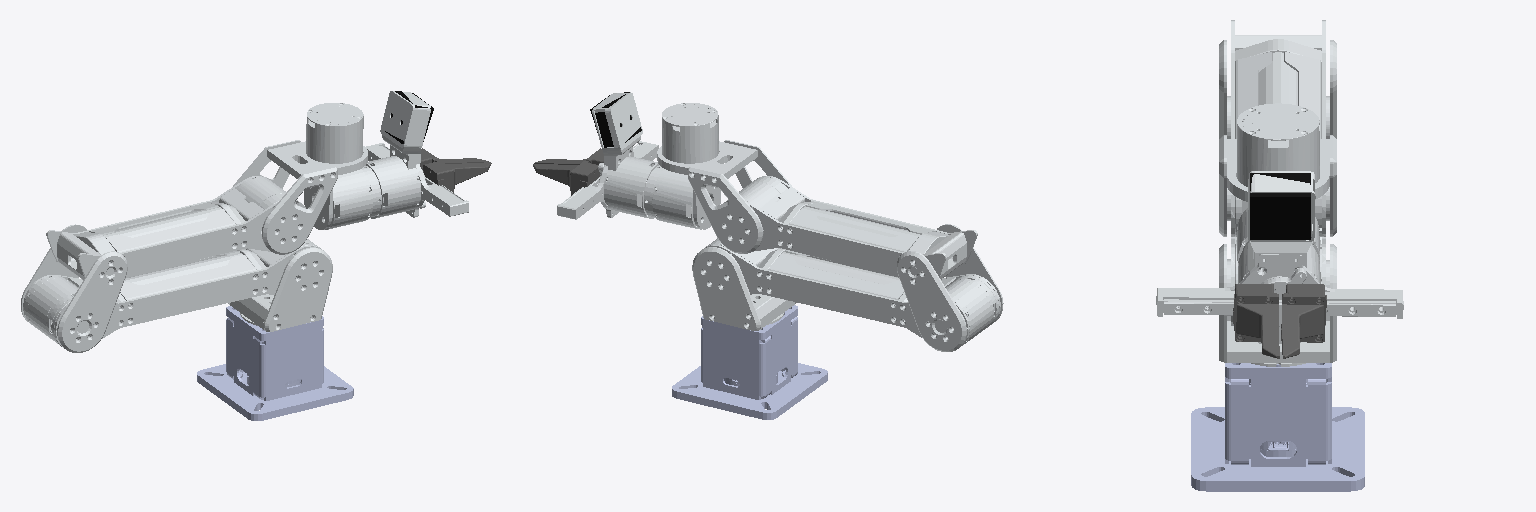
URDF robot description (zk_xm115_00_description):
<?xml version="1.0" encoding="utf-8"?>
<!-- This URDF was automatically created by SolidWorks to URDF Exporter! Originally created by Stephen Brawner (brawner@gmail.com) 
     Commit Version: 1.6.0-4-g7f85cfe  Build Version: 1.6.7995.38578
     For more information, please see http://wiki.ros.org/sw_urdf_exporter -->
<robot
  name="zk_xm115_00_description">
  <link
    name="base_link">
    <inertial>
      <origin
        xyz="0.00010343 -0.00017861 0.011481"
        rpy="0 0 0" />
      <mass
        value="0.66782" />
      <inertia
        ixx="0.00062899"
        ixy="-1.8463E-08"
        ixz="1.1399E-08"
        iyy="0.00052145"
        iyz="-2.183E-07"
        izz="0.00097478" />
    </inertial>
    <visual>
      <origin
        xyz="0 0 0"
        rpy="0 0 0" />
      <geometry>
        <mesh
          filename="meshes/base_link.STL" />
      </geometry>
      <material
        name="">
        <color
          rgba="0.79216 0.81961 0.93333 1" />
      </material>
    </visual>
    <collision>
      <origin
        xyz="0 0 0"
        rpy="0 0 0" />
      <geometry>
        <mesh
          filename="meshes/base_link.STL" />
      </geometry>
    </collision>
  </link>
  <link
    name="link1">
    <inertial>
      <origin
        xyz="0.0070239 -0.00071537 0.047458"
        rpy="0 0 0" />
      <mass
        value="0.44156" />
      <inertia
        ixx="0.00017928"
        ixy="-2.0481E-09"
        ixz="-1.4845E-05"
        iyy="0.00020362"
        iyz="-2.183E-07"
        izz="0.00020384" />
    </inertial>
    <visual>
      <origin
        xyz="0 0 0"
        rpy="0 0 0" />
      <geometry>
        <mesh
          filename="meshes/link1.STL" />
      </geometry>
      <material
        name="">
        <color
          rgba="0.89804 0.91765 0.92941 1" />
      </material>
    </visual>
    <collision>
      <origin
        xyz="0 0 0"
        rpy="0 0 0" />
      <geometry>
        <mesh
          filename="meshes/link1.STL" />
      </geometry>
    </collision>
  </link>
  <joint
    name="joint1"
    type="revolute">
    <origin
      xyz="0.00010942 -0.00016615 0.0534"
      rpy="0 0 0" />
    <parent
      link="base_link" />
    <child
      link="link1" />
    <axis
      xyz="0 0 1" />
    <limit
      lower="-2.61"
      upper="2.61"
      effort="27"
      velocity="8" />
  </joint>
  <link
    name="link2">
    <inertial>
      <origin
        xyz="0.168 0.0019112 -0.028846"
        rpy="0 0 0" />
      <mass
        value="0.52915" />
      <inertia
        ixx="0.00018135"
        ixy="-1.56E-05"
        ixz="2.0484E-09"
        iyy="0.0015397"
        iyz="-2.183E-07"
        izz="0.0015539" />
    </inertial>
    <visual>
      <origin
        xyz="0 0 0"
        rpy="0 0 0" />
      <geometry>
        <mesh
          filename="meshes/link2.STL" />
      </geometry>
      <material
        name="">
        <color
          rgba="0.89804 0.91765 0.92941 1" />
      </material>
    </visual>
    <collision>
      <origin
        xyz="0 0 0"
        rpy="0 0 0" />
      <geometry>
        <mesh
          filename="meshes/link2.STL" />
      </geometry>
    </collision>
  </link>
  <joint
    name="joint2"
    type="revolute">
    <origin
      xyz="0.016377 0.028525 0.067409"
      rpy="1.5708 0 3.1416" />
    <parent
      link="link1" />
    <child
      link="link2" />
    <axis
      xyz="0 0 1" />
    <limit
      lower="-0.13"
      upper="3.7"
      effort="27"
      velocity="8" />
  </joint>
  <link
    name="link3">
    <inertial>
      <origin
        xyz="0.12156 0.046726 0.0299"
        rpy="0 0 0" />
      <mass
        value="0.69759" />
      <inertia
        ixx="0.00026847"
        ixy="-2.7956E-05"
        ixz="1.3552E-10"
        iyy="0.0010509"
        iyz="-2.7675E-07"
        izz="0.0011494" />
    </inertial>
    <visual>
      <origin
        xyz="0 0 0"
        rpy="0 0 0" />
      <geometry>
        <mesh
          filename="meshes/link3.STL" />
      </geometry>
      <material
        name="">
        <color
          rgba="0.89804 0.91765 0.92941 1" />
      </material>
    </visual>
    <collision>
      <origin
        xyz="0 0 0"
        rpy="0 0 0" />
      <geometry>
        <mesh
          filename="meshes/link3.STL" />
      </geometry>
    </collision>
  </link>
  <joint
    name="joint3"
    type="revolute">
    <origin
      xyz="0.25998 0.0029819 0"
      rpy="3.1416 0 3.1416" />
    <parent
      link="link2" />
    <child
      link="link3" />
    <axis
      xyz="0 0 1" />
    <limit
      lower="-0.13"
      upper="3.7"
      effort="27"
      velocity="8" />
  </joint>
  <link
    name="link4">
    <inertial>
      <origin
        xyz="0.039032 0.043357 -0.029382"
        rpy="0 0 0" />
      <mass
        value="0.30087" />
      <inertia
        ixx="0.00017956"
        ixy="-2.2802E-05"
        ixz="2.7531E-07"
        iyy="0.00012458"
        iyz="1.6033E-08"
        izz="0.00018002" />
    </inertial>
    <visual>
      <origin
        xyz="0 0 0"
        rpy="0 0 0" />
      <geometry>
        <mesh
          filename="meshes/link4.STL" />
      </geometry>
      <material
        name="">
        <color
          rgba="0.89804 0.91765 0.92941 1" />
      </material>
    </visual>
    <collision>
      <origin
        xyz="0 0 0"
        rpy="0 0 0" />
      <geometry>
        <mesh
          filename="meshes/link4.STL" />
      </geometry>
    </collision>
  </link>
  <joint
    name="joint4"
    type="revolute">
    <origin
      xyz="0.236 0.05369 -0.0006"
      rpy="3.1416 0 1.5708" />
    <parent
      link="link3" />
    <child
      link="link4" />
    <axis
      xyz="0 0 -1" />
    <limit
      lower="-1.57"
      upper="1.57"
      effort="12.5"
      velocity="20.94" />
  </joint>
  <link
    name="link5">
    <inertial>
      <origin
        xyz="-0.0017219 2.8244E-05 0.04156"
        rpy="0 0 0" />
      <mass
        value="0.147" />
      <inertia
        ixx="7.222E-05"
        ixy="-1.1321E-07"
        ixz="-6.7044E-06"
        iyy="6.2711E-05"
        iyz="8.8552E-08"
        izz="5.1048E-05" />
    </inertial>
    <visual>
      <origin
        xyz="0 0 0"
        rpy="0 0 0" />
      <geometry>
        <mesh
          filename="meshes/link5.STL" />
      </geometry>
      <material
        name="">
        <color
          rgba="0.89804 0.91765 0.92941 1" />
      </material>
    </visual>
    <collision>
      <origin
        xyz="0 0 0"
        rpy="0 0 0" />
      <geometry>
        <mesh
          filename="meshes/link5.STL" />
      </geometry>
    </collision>
  </link>
  <joint
    name="joint5"
    type="revolute">
    <origin
      xyz="0.047966 0.075984 -0.029125"
      rpy="1.5708 0 -1.5708" />
    <parent
      link="link4" />
    <child
      link="link5" />
    <axis
      xyz="0 0 -1" />
    <limit
      lower="-1.57"
      upper="1.57"
      effort="12.5"
      velocity="20.94" />
  </joint>
  <link
    name="link6">
    <inertial>
      <origin
        xyz="0.000696527937 0.0161271309 0.0515067601"
        rpy="0 0 0" />
      <mass
        value="0.36931" />
      <inertia
        ixx="0.000305975151"
        ixy="1.808165E-06"
        ixz="2.71529663E-06"
        iyy="0.000279353857"
        iyz="-3.25645131E-05"
        izz="0.000538824646" />
    </inertial>
    <visual>
      <origin
        xyz="0 0 0"
        rpy="0 0 0" />
      <geometry>
        <mesh
          filename="meshes/link6.STL" />
      </geometry>
      <material
        name="">
        <color
          rgba="0.89804 0.91765 0.92941 1" />
      </material>
    </visual>
    <visual>
      <origin
        xyz="0.001 0.068 0.058232"
        rpy="0.35 0 0" />
      <geometry>
        <box
          size="0.042 0.042 0.023" />
      </geometry>
      <material
        name="camera_placeholder">
        <color
          rgba="0.1 0.1 0.1 0.7" />
      </material>
    </visual>
    <collision>
      <origin
        xyz="0 0 0"
        rpy="0 0 0" />
      <geometry>
        <mesh
          filename="meshes/link6.STL" />
      </geometry>
    </collision>
    <collision>
      <origin
        xyz="0.001 0.068 0.058232"
        rpy="0.35 0 0" />
      <geometry>
        <box
          size="0.042 0.042 0.023" />
      </geometry>
    </collision>
  </link>
  <joint
    name="joint6"
    type="revolute">
    <origin
      xyz="-0.02742 0.00033257 0.048973"
      rpy="-1.5708 0 1.5708" />
    <parent
      link="link5" />
    <child
      link="link6" />
    <axis
      xyz="0 0 -1" />
    <limit
      lower="-1.57"
      upper="1.57"
      effort="12.5"
      velocity="20.94" />
  </joint>
  <link
    name="gripper_base">
    <inertial>
      <origin
        xyz="-0.0001244 8.8298E-05 -0.0074065"
        rpy="0 0 0" />
      <mass
        value="0.022154" />
      <inertia
        ixx="2.3417E-06"
        ixy="-6.8779E-07"
        ixz="3.8527E-08"
        iyy="2.8585E-06"
        iyz="-1.4512E-08"
        izz="5.0838E-06" />
    </inertial>
    <visual>
      <origin
        xyz="0 0 0"
        rpy="0 0 0" />
      <geometry>
        <mesh
          filename="meshes/gripper_base.STL" />
      </geometry>
      <material
        name="">
        <color
          rgba="0.89804 0.91765 0.92941 1" />
      </material>
    </visual>
    <collision>
      <origin
        xyz="0 0 0"
        rpy="0 0 0" />
      <geometry>
        <mesh
          filename="meshes/gripper_base.STL" />
      </geometry>
    </collision>
  </link>
  <joint
    name="gripper_base_fixed_joint"
    type="fixed">
    <origin
      xyz="0.00065889 -0.00095158 0.055988"
      rpy="3.1416 0 1.5708" />
    <parent
      link="link6" />
    <child
      link="gripper_base" />
  </joint>
  <link
    name="left_link">
    <inertial>
      <origin
        xyz="-0.03039 0.02123 -0.019485"
        rpy="0 0 0" />
      <mass
        value="0.042117" />
      <inertia
        ixx="8.2808E-06"
        ixy="3.766E-08"
        ixz="8.1491E-07"
        iyy="6.7057E-06"
        iyz="1.1421E-08"
        izz="6.6452E-06" />
    </inertial>
    <visual>
      <origin
        xyz="0 0 0"
        rpy="0 0 0" />
      <geometry>
        <mesh
          filename="meshes/left_link.STL" />
      </geometry>
      <material
        name="">
        <color
          rgba="0.43922 0.43922 0.43922 1" />
      </material>
    </visual>
    <collision>
      <origin
        xyz="0 0 0"
        rpy="0 0 0" />
      <geometry>
        <mesh
          filename="meshes/left_link.STL" />
      </geometry>
    </collision>
  </link>
  <joint
    name="gripper_joint"
    type="prismatic">
    <origin
      xyz="-0.014253924 -0.0229856348 0.0702921096"
      rpy="0 0 0" />
    <parent
      link="link6" />
    <child
      link="left_slider_link" />
    <axis
      xyz="1 0 0" />
    <limit
      lower="0"
      upper="0.0375"
      effort="12.5"
      velocity="0.05" />
  </joint>
  <link
    name="left_slider_link" />
  <joint
    name="left_link_fixed_joint"
    type="fixed">
    <origin
      xyz="0 0 0"
      rpy="3.14159265 -0.00000734641 -3.14158531" />
    <parent
      link="left_slider_link" />
    <child
      link="left_link" />
  </joint>
  <link
    name="right_link">
    <inertial>
      <origin
        xyz="0.0213873330359248 0.0300818166894962 -0.0142213048077354"
        rpy="0 0 0" />
      <mass
        value="0.0421173419581054" />
      <inertia
        ixx="6.70486641312397E-06"
        ixy="-9.008548688457E-09"
        ixz="1.32641986078812E-08"
        iyy="8.24149719529623E-06"
        iyz="-8.53284798413987E-07"
        izz="6.68533375001543E-06" />
    </inertial>
    <visual>
      <origin
        xyz="0 0 0"
        rpy="0 0 0" />
      <geometry>
        <mesh
          filename="meshes/right_link.STL" />
      </geometry>
      <material
        name="">
        <color
          rgba="0.43921568627451 0.43921568627451 0.43921568627451 1" />
      </material>
    </visual>
    <collision>
      <origin
        xyz="0 0 0"
        rpy="0 0 0" />
      <geometry>
        <mesh
          filename="meshes/right_link.STL" />
      </geometry>
    </collision>
  </link>
  <joint
    name="right_joint"
    type="prismatic">
    <origin
      xyz="0.0156899592 0.0200894752 0.0759228896"
      rpy="0 0 0" />
    <parent
      link="link6" />
    <child
      link="right_slider_link" />
    <axis
      xyz="-1 0 0" />
    <limit
      lower="0"
      upper="0.0375"
      effort="12.5"
      velocity="0.05" />
    <mimic
      joint="gripper_joint"
      multiplier="1"
      offset="0" />
  </joint>
  <link
    name="right_slider_link" />
  <joint
    name="right_link_fixed_joint"
    type="fixed">
    <origin
      xyz="0 0 0"
      rpy="3.14158531 0 -1.5708" />
    <parent
      link="right_slider_link" />
    <child
      link="right_link" />
  </joint>
  <link
    name="end_link" />
  <joint
    name="end_joint"
    type="fixed">
    <origin
      xyz="0 0 0.15539"
      rpy="0 -1.5708 3.1415" />
    <parent
      link="link6" />
    <child
      link="end_link" />
  </joint>
</robot>

--- Facts derived from the render (not from the file) ---
3 views of the same robot in one strip: view 1: azimuth 30°, elevation 25°; view 2: azimuth 150°, elevation 25°; view 3: azimuth 270°, elevation 25° (orthographic).
Robot: zk_xm115_00_description — 13 links, 12 joints (6 revolute, 2 prismatic, 4 fixed); root link base_link; default pose: every joint at zero.
Visible links, largest first — view 1: link3, link2, base_link, link4, link6, link1, link5, right_link; view 2: link3, link2, base_link, link4, link6, link1, link5, left_link; view 3: base_link, link6, link3, link4, link1, right_link, left_link, link5, gripper_base.
Boxes of the visible links, bbox=[...] form: link3: bbox=[21, 176, 305, 352]; link2: bbox=[23, 245, 320, 346]; base_link: bbox=[197, 306, 353, 420]; link4: bbox=[233, 103, 367, 254]; link6: bbox=[362, 91, 468, 218]; link1: bbox=[228, 239, 332, 331]; link5: bbox=[304, 169, 372, 229]; right_link: bbox=[423, 160, 491, 192]; link3: bbox=[724, 176, 1003, 351]; link2: bbox=[705, 245, 1000, 345]; base_link: bbox=[672, 305, 827, 419]; link4: bbox=[657, 103, 791, 253]; link6: bbox=[557, 92, 663, 219]; link1: bbox=[692, 238, 796, 330]; link5: bbox=[652, 169, 720, 229]; left_link: bbox=[533, 161, 599, 195]; base_link: bbox=[1191, 363, 1364, 491]; link6: bbox=[1156, 171, 1403, 343]; link3: bbox=[1219, 20, 1336, 236]; link4: bbox=[1219, 103, 1336, 236]; link1: bbox=[1219, 244, 1336, 366]; right_link: bbox=[1233, 284, 1279, 358]; left_link: bbox=[1281, 284, 1326, 358]; link5: bbox=[1237, 200, 1319, 260]; gripper_base: bbox=[1261, 268, 1306, 326].
Bounding box of the posed robot: 0.5209 × 0.1704 × 0.2862 m (x, y, z).
Meshes: 10 distinct files referenced, 10 mesh visuals loaded (10 binary STL).
